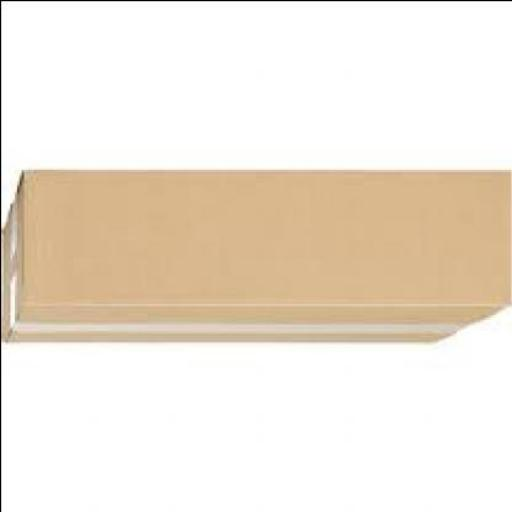cardboard: (1, 167, 510, 346)
